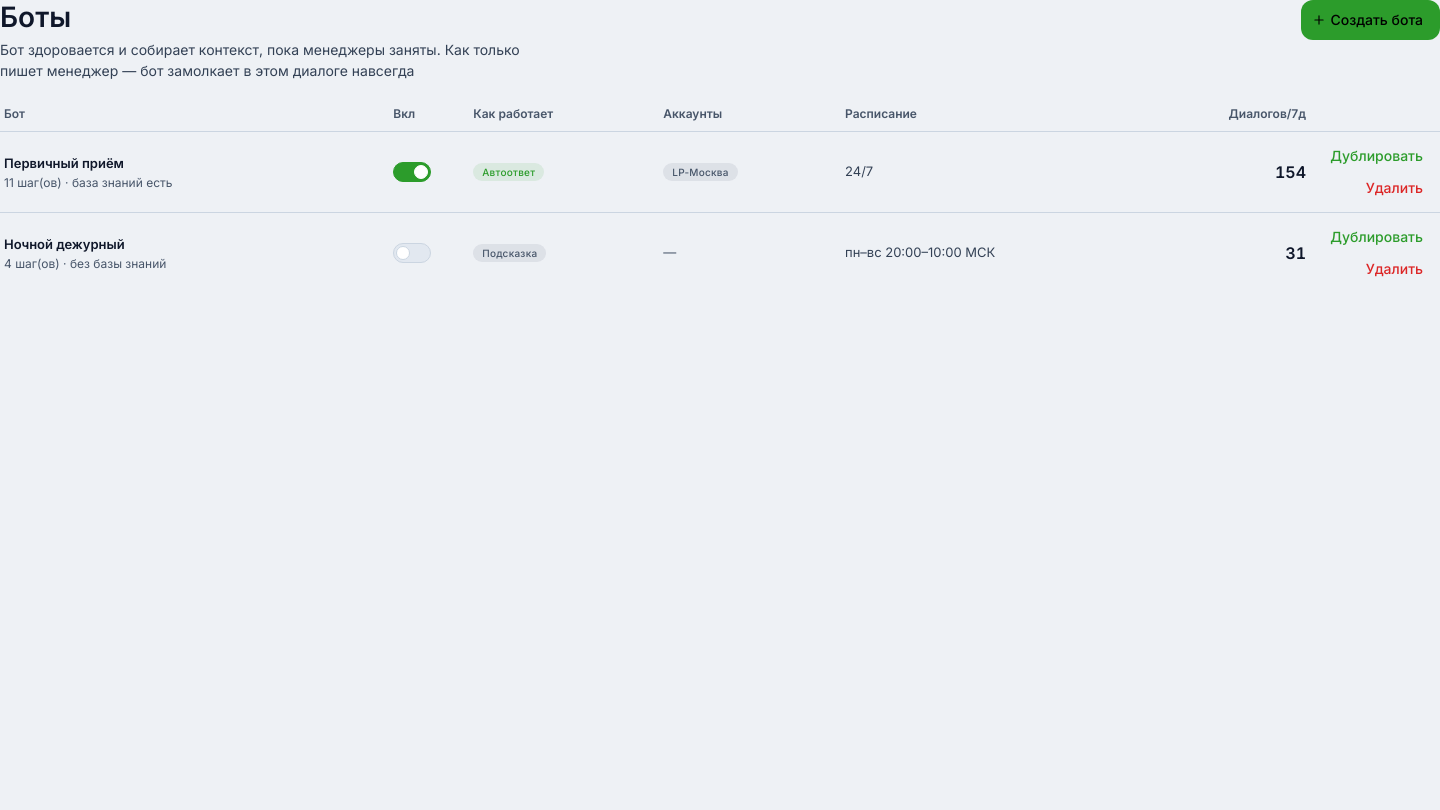
Test case: Список ботов › «Отмена» в окне удаления не отправляет ничего
Expected: the button "Первичный приём" is shown, [4,154,124,174]
Click the button "Удалить" in the row of "11": (1394, 188) [1353,172,1436,204]
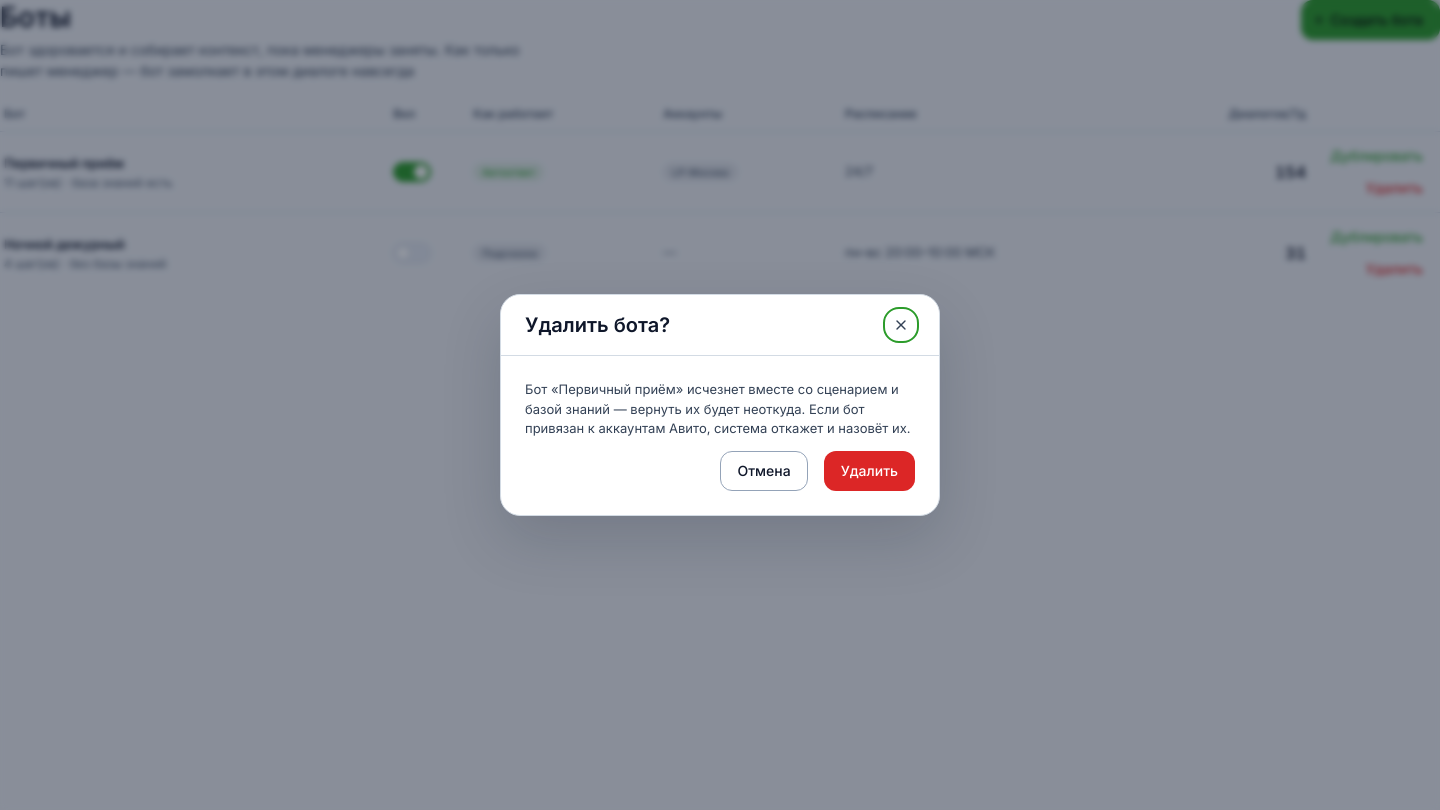
Click the button "Отмена": (764, 471) [720,451,808,491]
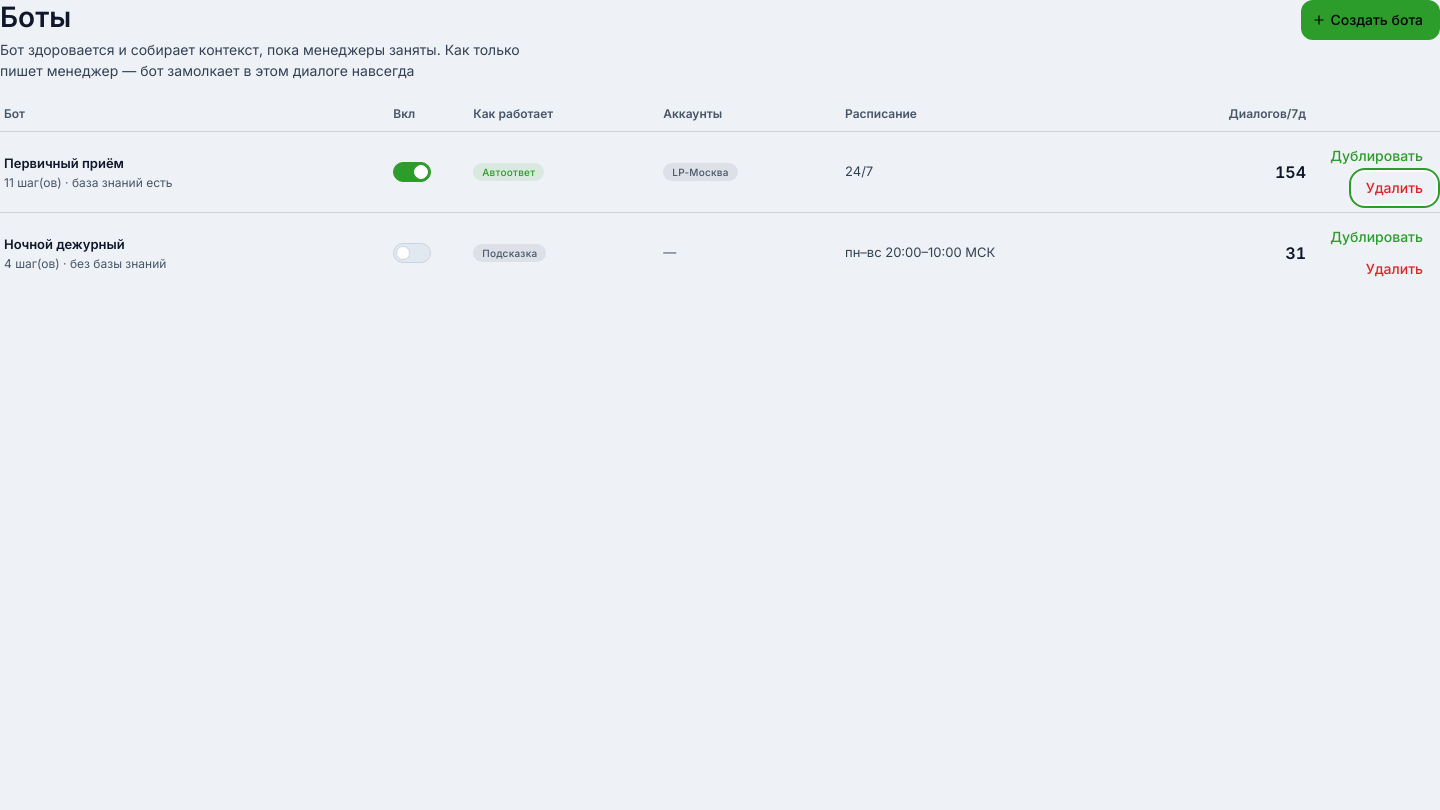
Result: the dialog is gone
